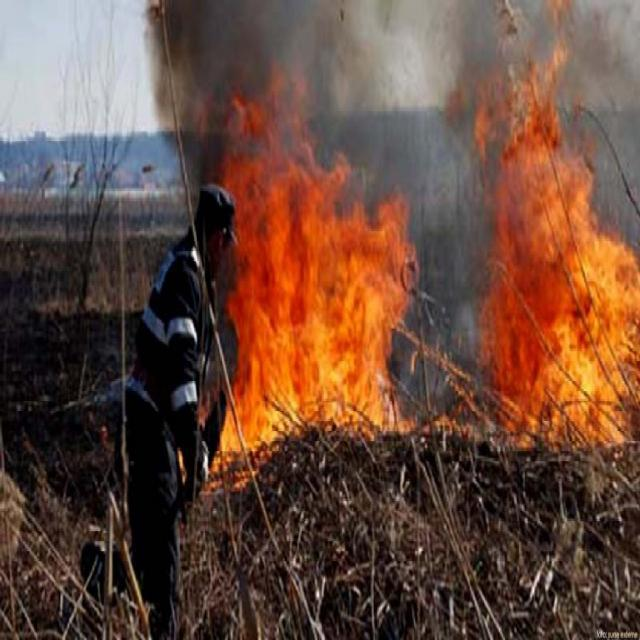Fire: (468, 6, 639, 465), (212, 142, 430, 456)
Smoke: (145, 0, 420, 204)
